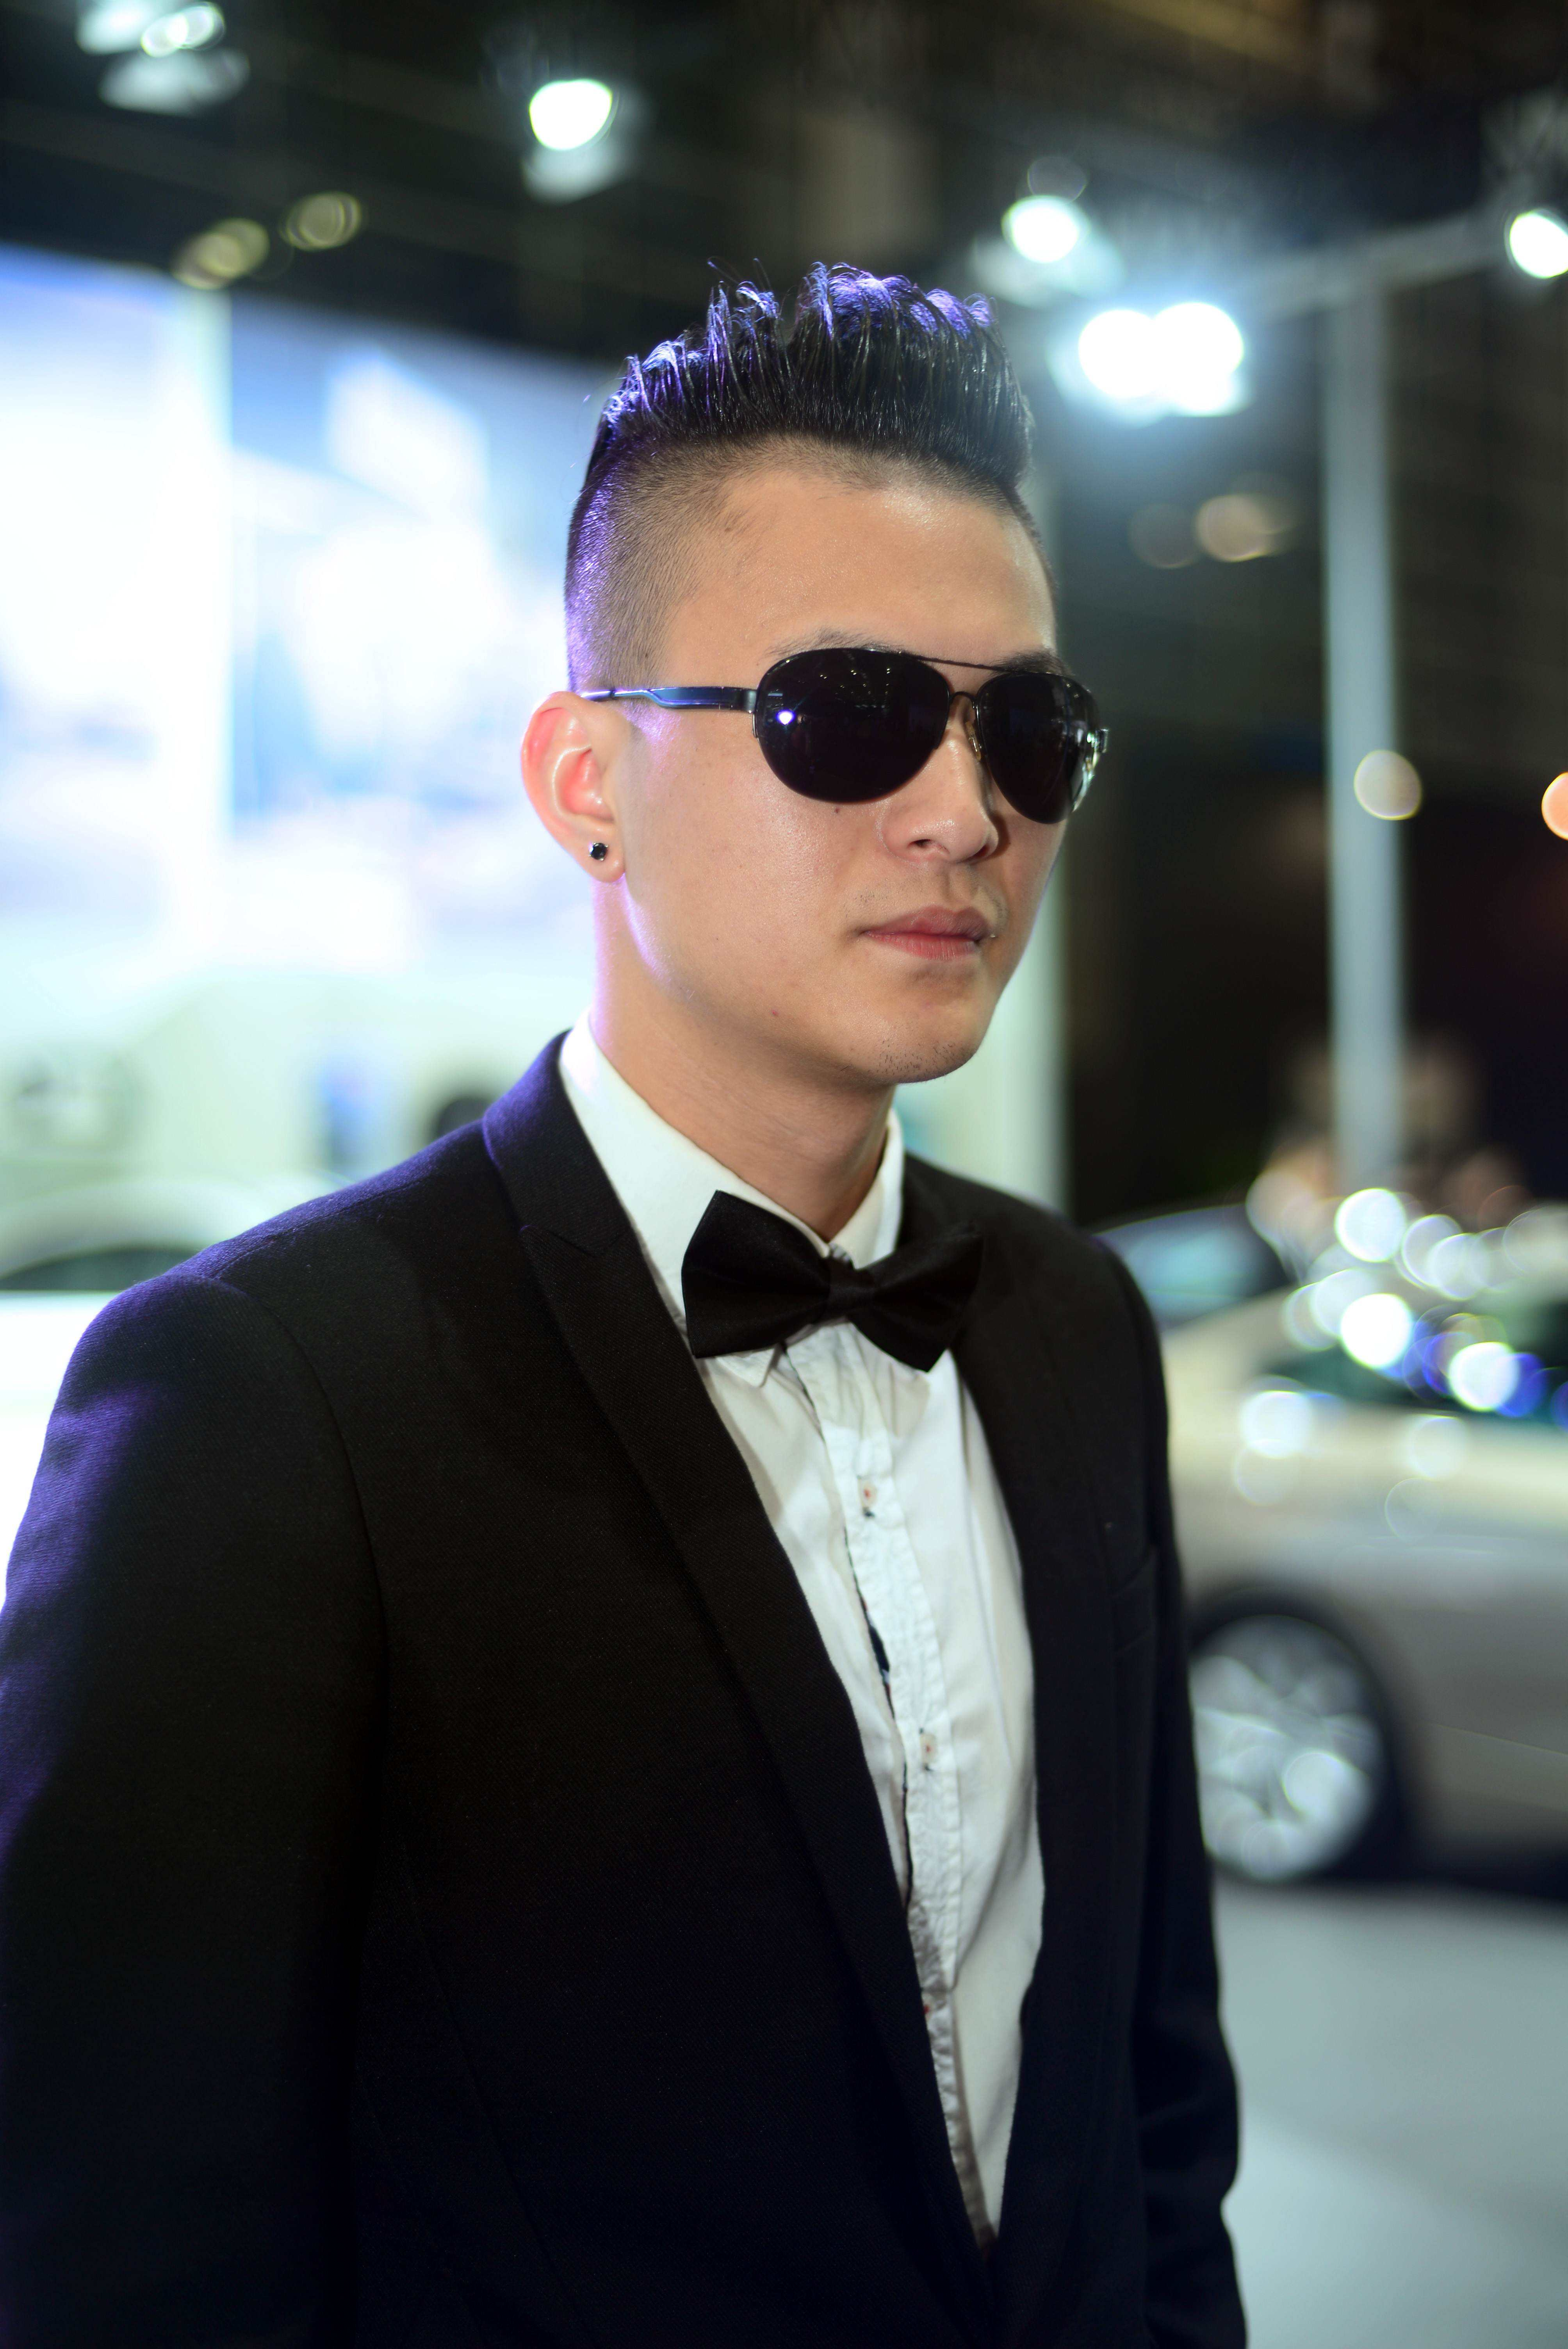person: (293, 310, 1285, 2249)
